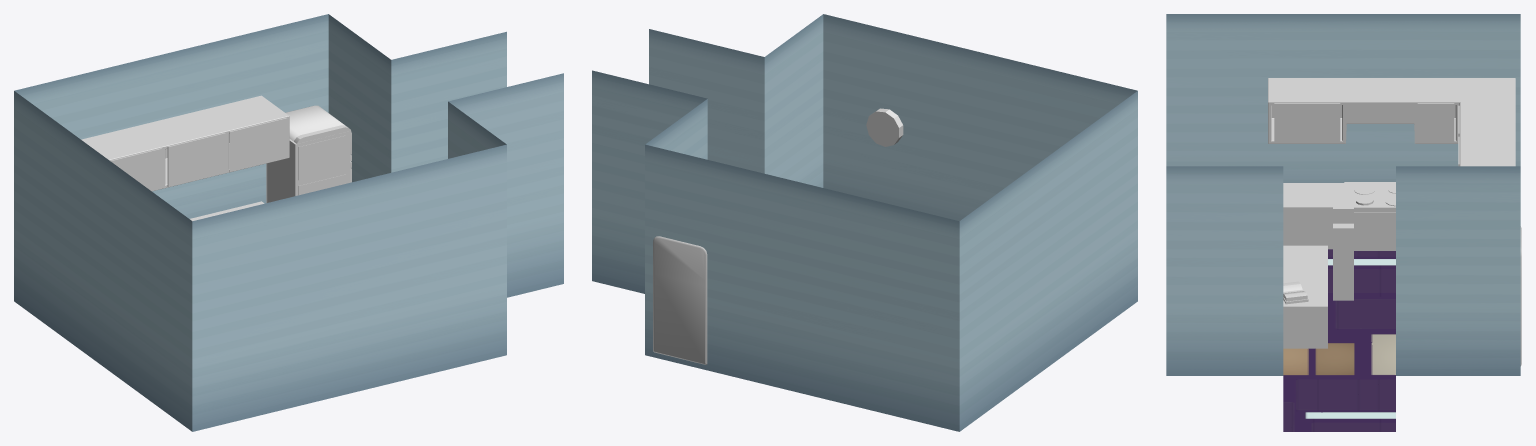
File: Layout_DRAFT.fbx
3 renders of one model, left to right at view 1: azimuth 30°, elevation 25°; view 2: azimuth 150°, elevation 25°; view 3: azimuth 270°, elevation 25°, orthographic.
Visible parts, largest first — view 1: Walls, Walls.001, Cabinet, Kitchen.003, Kitchen.002, Fridge, Cube.003, Cube.004; view 2: Walls, Walls.001, Cube.003, Kitchen.001; view 3: Walls, Walls.001, Floor, Kitchen.003, Kitchen.001, Cabinet, Model Height, Oven, Book, Burners.
Boxes of the visible parts, <box> form: Walls: <box>14,14,563,431</box>; Walls.001: <box>192,101,506,431</box>; Cabinet: <box>110,117,287,191</box>; Kitchen.003: <box>81,95,289,191</box>; Kitchen.002: <box>267,131,350,202</box>; Fridge: <box>298,135,346,195</box>; Cube.003: <box>266,105,344,202</box>; Cube.004: <box>294,125,351,161</box>; Walls: <box>592,29,1137,431</box>; Walls.001: <box>764,14,1137,221</box>; Cube.003: <box>653,236,707,364</box>; Kitchen.001: <box>866,108,903,146</box>; Walls: <box>1166,14,1520,375</box>; Walls.001: <box>1166,166,1283,375</box>; Floor: <box>1283,249,1395,431</box>; Kitchen.003: <box>1268,78,1515,166</box>; Kitchen.001: <box>1283,182,1395,348</box>; Cabinet: <box>1274,103,1459,166</box>; Model Height: <box>1333,202,1353,300</box>; Oven: <box>1354,212,1395,250</box>; Book: <box>1283,281,1308,304</box>; Burners: <box>1354,185,1395,206</box>.
Size of the model in its own units: 808 by 381 by 582.
